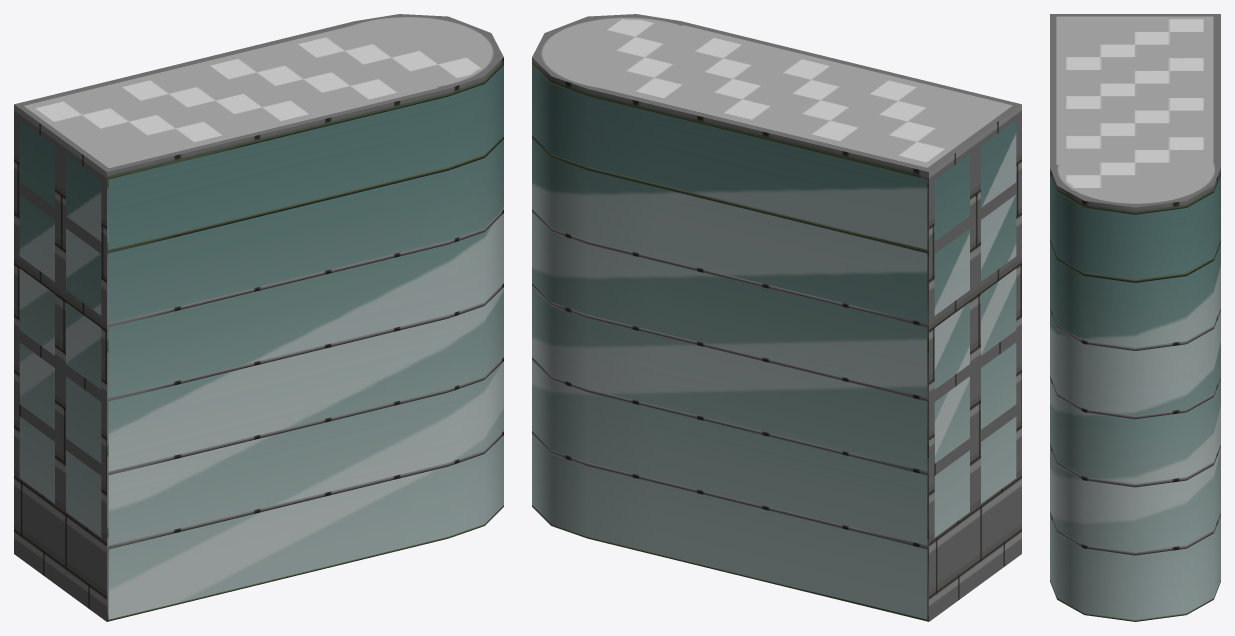
The model's file is Revised Building 2.FBX.
3 views of the same model, side by side, from view 1: azimuth 30°, elevation 25°; view 2: azimuth 150°, elevation 25°; view 3: azimuth 270°, elevation 25° (orthographic). The views are drawn at different scales.
Parts seen in each view (by area): view 1: Downtown building 2; view 2: Downtown building 2; view 3: Downtown building 2.
Boxes of the visible parts, left/top/right/bottom form: Downtown building 2: left=14, top=14, right=503, bottom=621; Downtown building 2: left=532, top=14, right=1021, bottom=621; Downtown building 2: left=1050, top=14, right=1220, bottom=621.
Bounding box in the file's own units: 257 × 257 × 95.99.
Materials: 1 (1 with a texture image).
